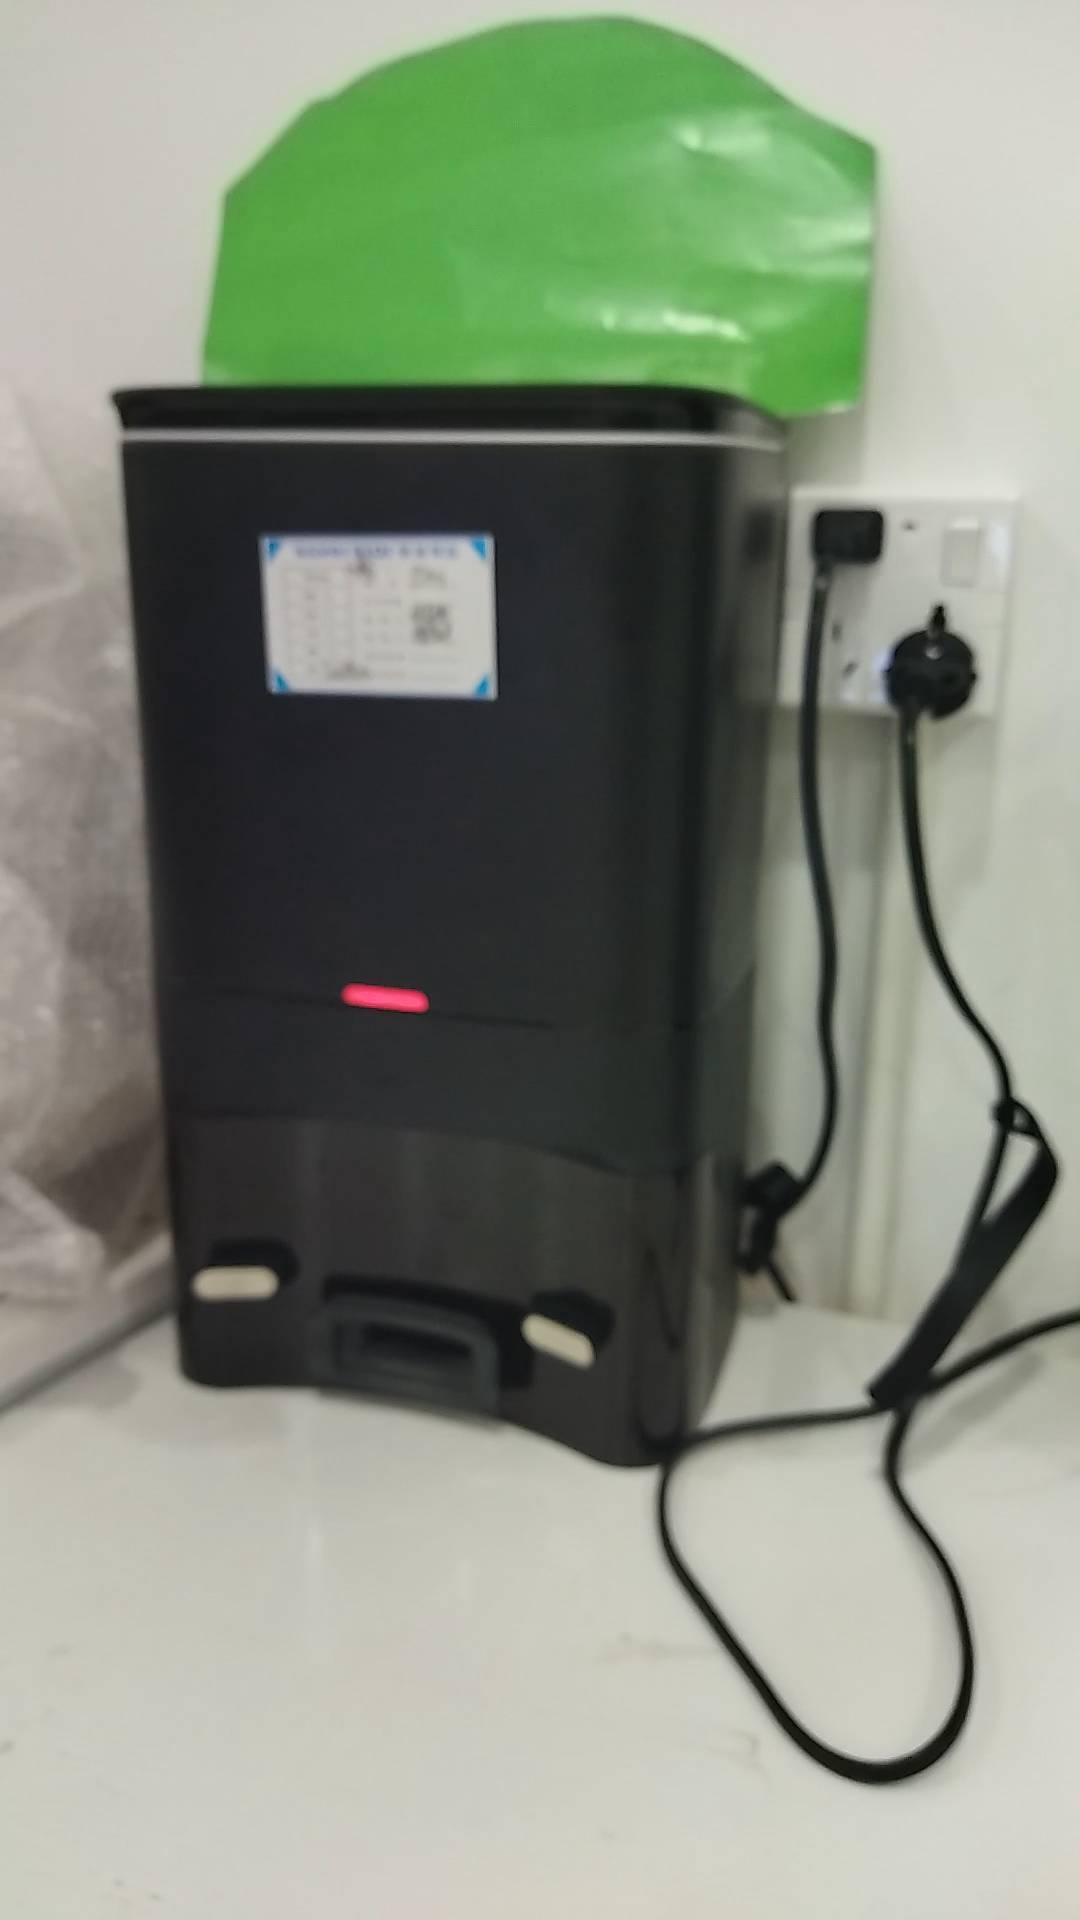dust collecting barrel: (105, 384, 794, 1469)
